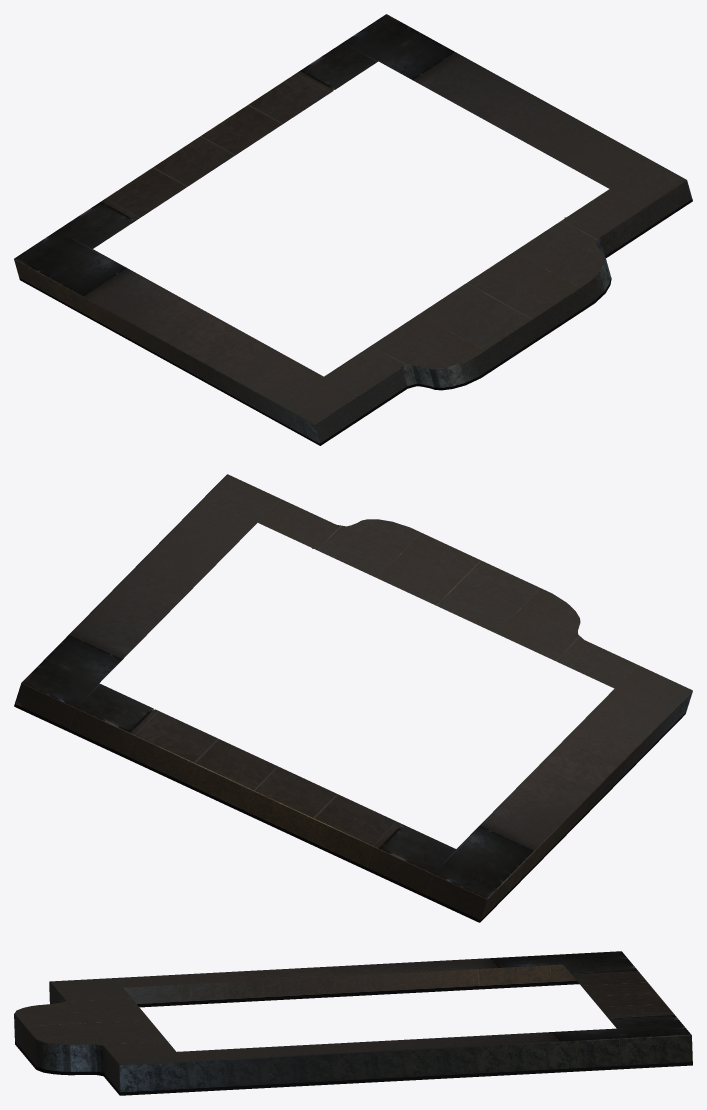
Rendered from AltarBase.obj.
3 renders of one model, top to bottom at view 1: azimuth 30°, elevation 25°; view 2: azimuth 150°, elevation 25°; view 3: azimuth 270°, elevation 25°, orthographic. The views are drawn at different scales.
Visible parts, largest first — view 1: Plane.000_0; view 2: Plane.000_0; view 3: Plane.000_0.
Part boxes in pixels (<box>): Plane.000_0: <box>14,14,692,445</box>; Plane.000_0: <box>14,474,692,922</box>; Plane.000_0: <box>14,951,692,1095</box>.
Size of the model in its own units: 7.81 by 2.39 by 8.5.
